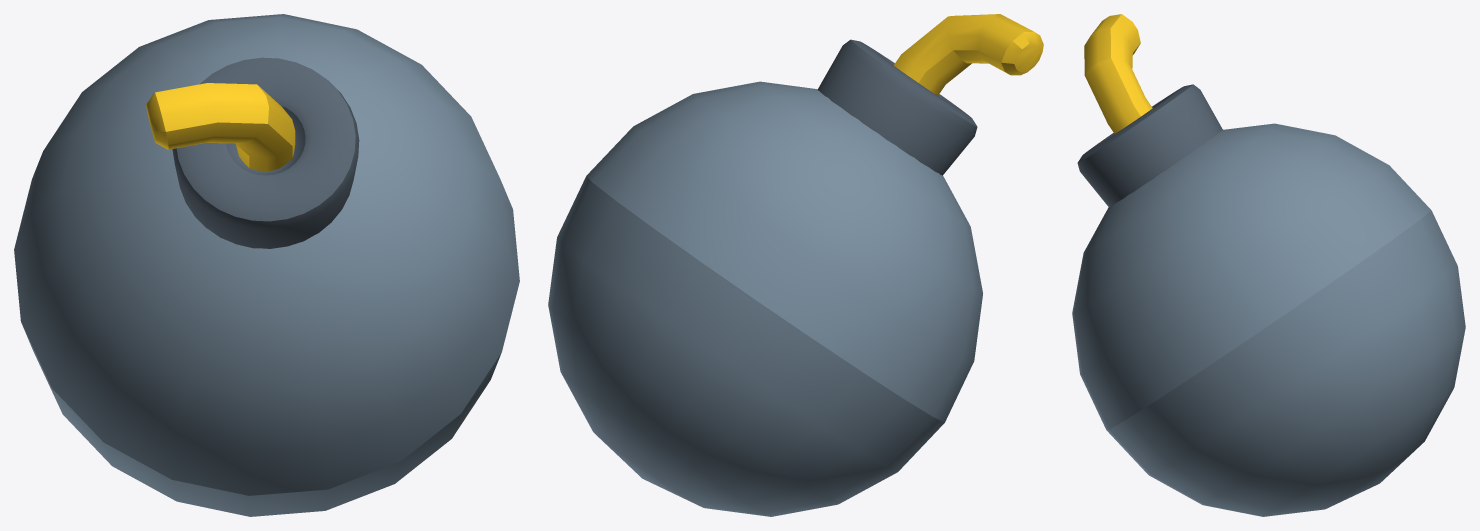
File: boomb model.fbx
3 views of the same model, side by side, from view 1: azimuth 30°, elevation 25°; view 2: azimuth 150°, elevation 25°; view 3: azimuth 270°, elevation 25° (orthographic). The views are drawn at different scales.
Visible parts, largest first — view 1: Bommb_; view 2: Bommb_; view 3: Bommb_.
Part boxes in pixels (<box>): Bommb_: <box>14,14,519,516</box>; Bommb_: <box>548,14,1043,516</box>; Bommb_: <box>1072,14,1465,516</box>.
Size of the model in its own units: 151 by 174 by 152.
Materials: 1 (1 with a texture image).
